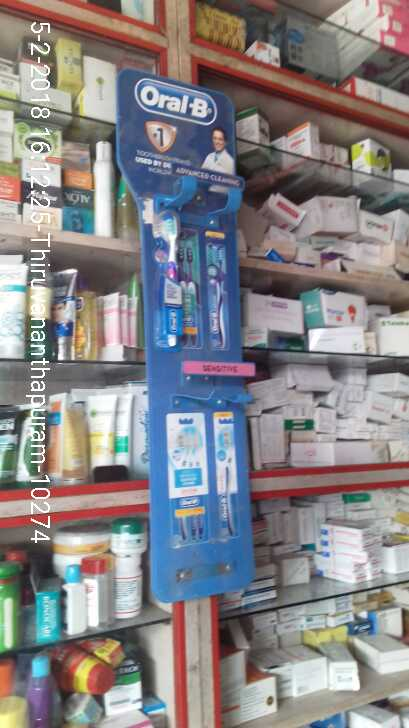oralb: (155, 194, 186, 349)
